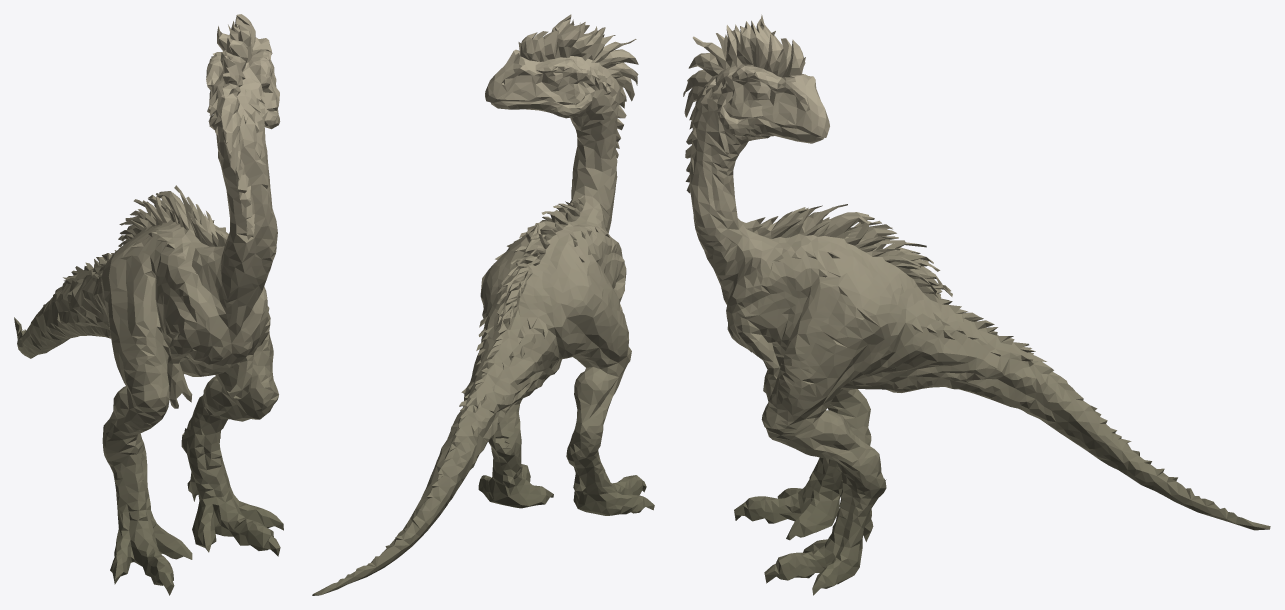
Rendered from oviraptor.glb.
3 views of the same model, side by side, from view 1: azimuth 30°, elevation 25°; view 2: azimuth 150°, elevation 25°; view 3: azimuth 270°, elevation 25° (orthographic). The views are drawn at different scales.
Parts seen in each view (by area): view 1: oviraptor; view 2: oviraptor; view 3: oviraptor.
Part boxes in pixels (bbox=[...]): oviraptor: bbox=[14, 14, 283, 595]; oviraptor: bbox=[312, 14, 654, 595]; oviraptor: bbox=[683, 14, 1270, 595].
Size of the model in its own units: 62.12 by 174 by 172.
